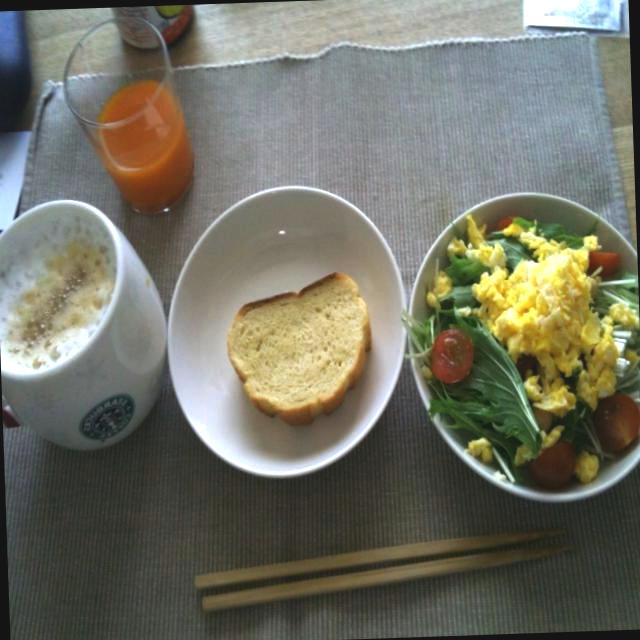Green Salad: (403, 186, 640, 499)
